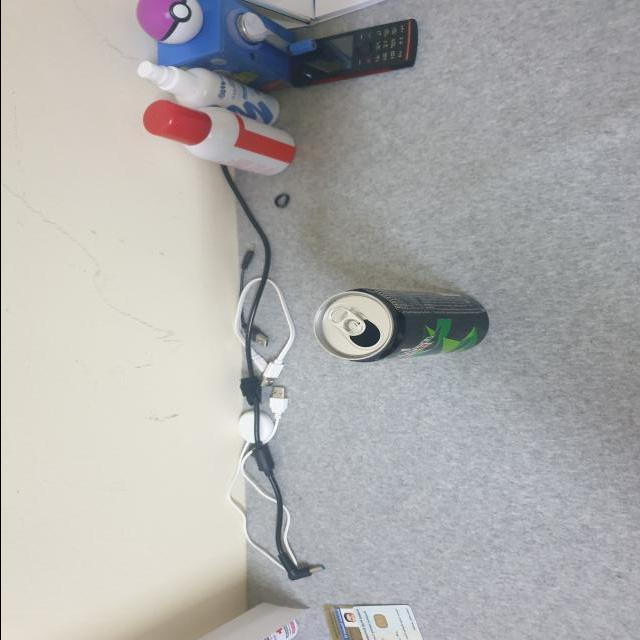can: (314, 288, 488, 364)
